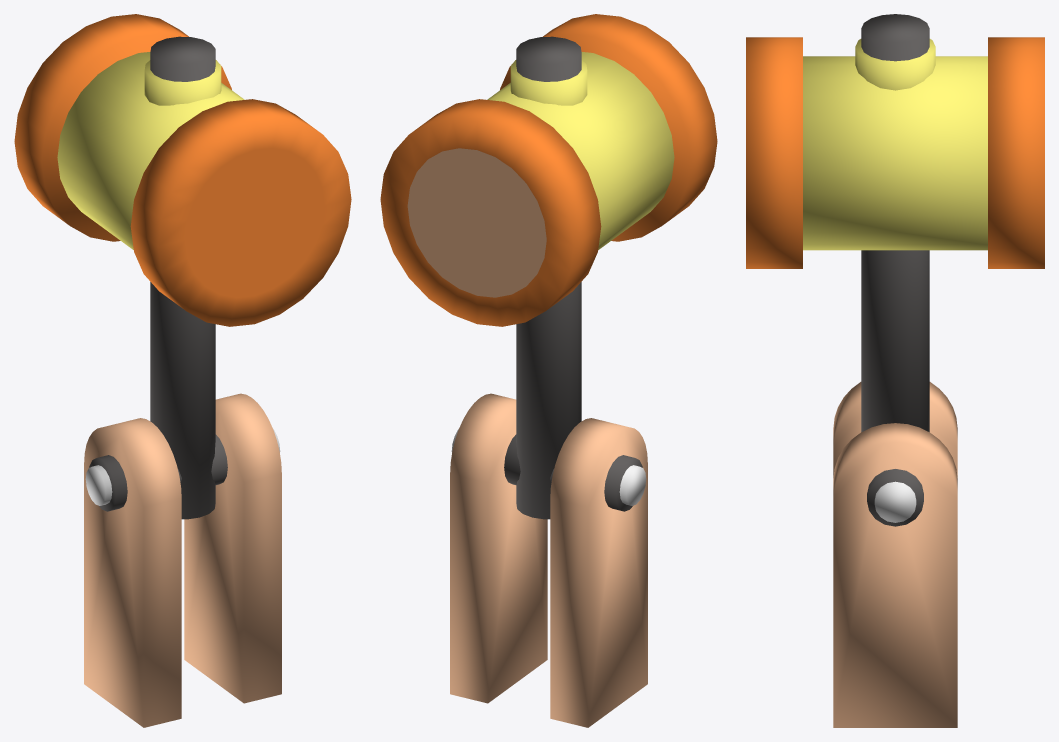
Rendered from Obstacle 8 V3.fbx.
3 renders of one model, left to right at view 1: azimuth 30°, elevation 25°; view 2: azimuth 150°, elevation 25°; view 3: azimuth 270°, elevation 25°, orthographic. The views are drawn at different scales.
Visible parts, largest first — view 1: O8 Part 2, O8 Part 1; view 2: O8 Part 2, O8 Part 1; view 3: O8 Part 2, O8 Part 1.
Boxes of the visible parts, left/top/right/bottom form: O8 Part 2: left=14, top=14, right=351, bottom=519; O8 Part 1: left=84, top=393, right=281, bottom=727; O8 Part 2: left=380, top=14, right=717, bottom=519; O8 Part 1: left=450, top=393, right=647, bottom=727; O8 Part 2: left=746, top=14, right=1044, bottom=526; O8 Part 1: left=833, top=382, right=957, bottom=727.
Size of the model in its own units: 71.86 by 227 by 92.36.
1 material, 1 textured.
